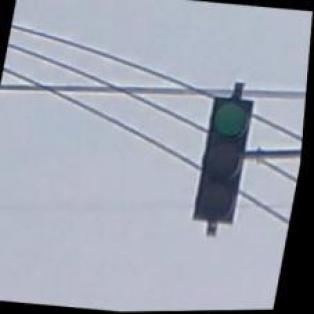Semaforo Verde: (193, 97, 254, 224)
